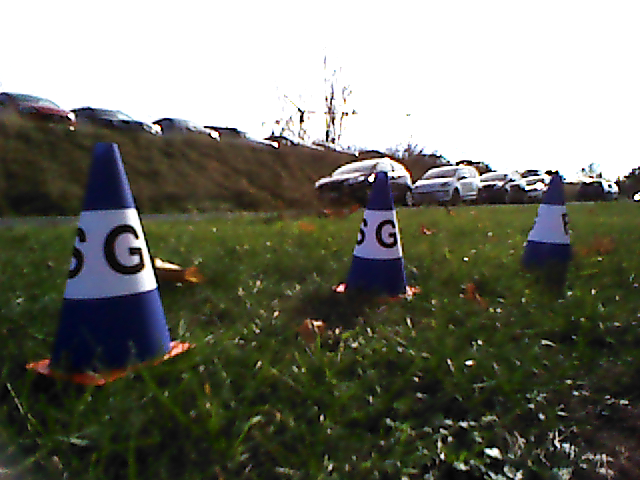bluecone: (53, 143, 167, 357), (349, 174, 408, 293), (525, 177, 573, 265)
